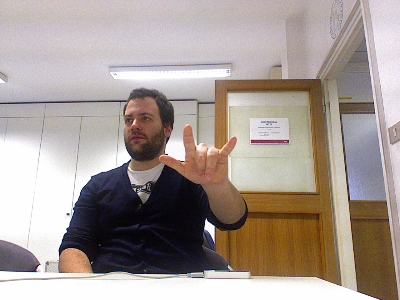我爱你: (158, 123, 237, 186)
